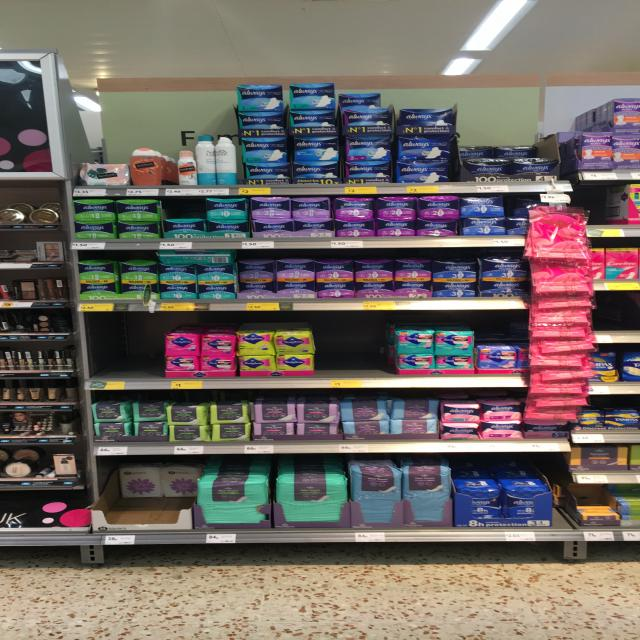empty: (315, 316, 387, 377), (93, 318, 167, 377), (594, 291, 640, 336), (585, 188, 634, 226)
